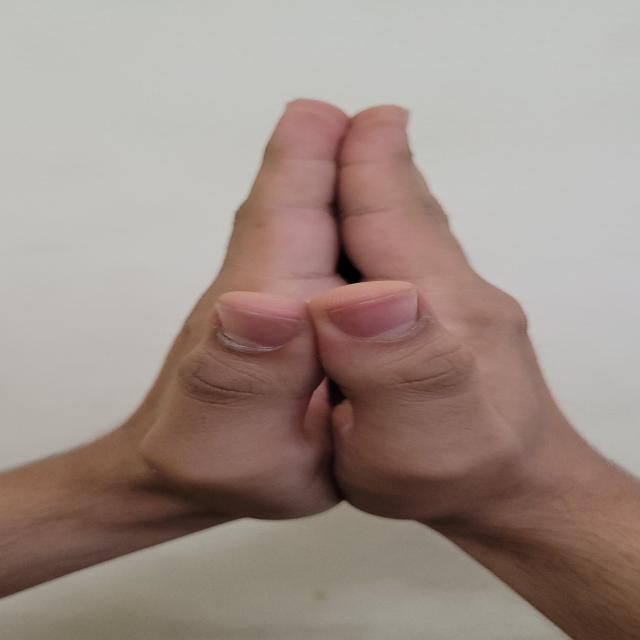Thank You: (93, 74, 618, 556)
